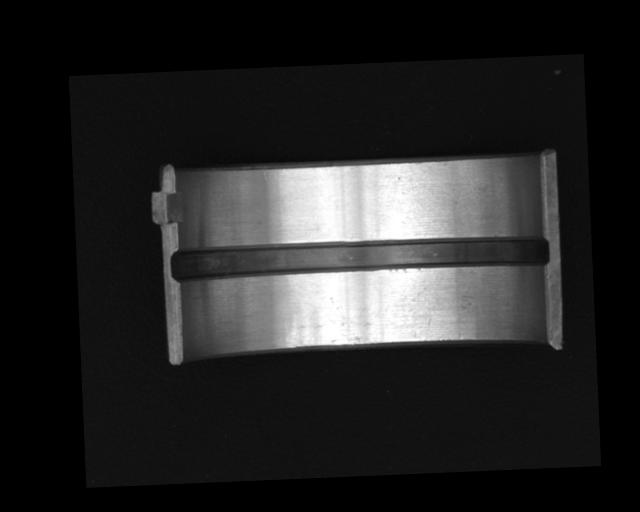gap: (168, 232, 551, 286)
